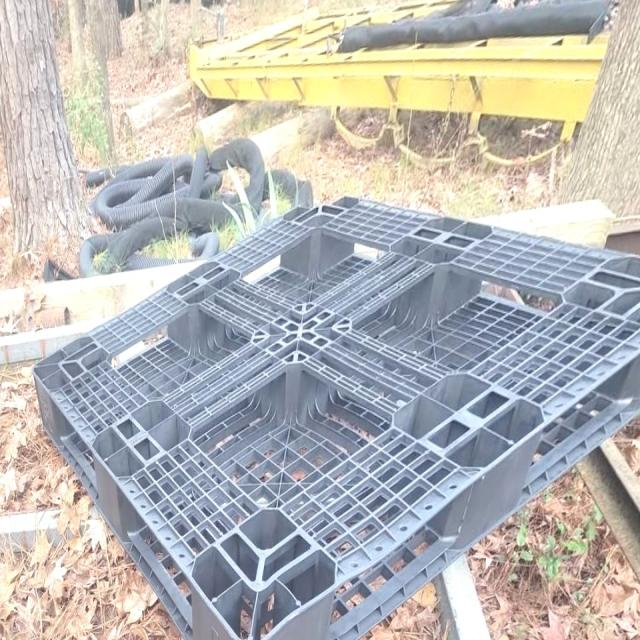non-igps: (27, 187, 639, 640)
